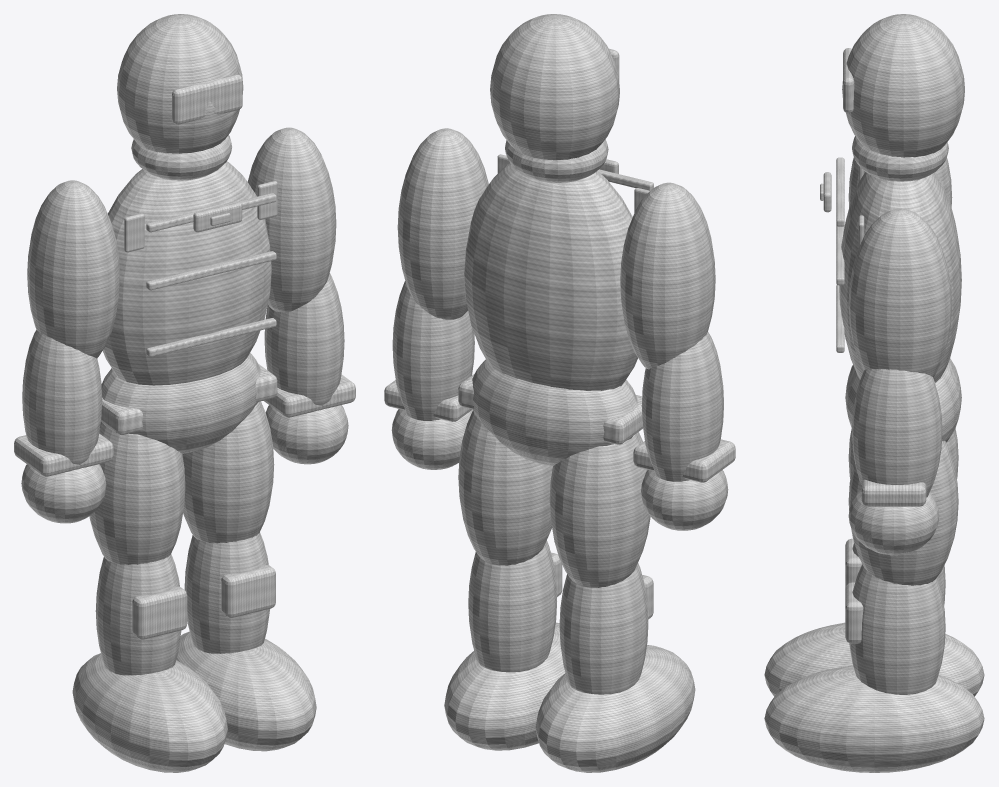
File: hazmat_suit_variant_c.glb
3 renders of one model, left to right at view 1: azimuth 30°, elevation 25°; view 2: azimuth 150°, elevation 25°; view 3: azimuth 270°, elevation 25°, orthographic. The views are drawn at different scales.
Parts seen in each view (by area): view 1: Torso suit shell.002, Boot.005, Upper arm suit.004, Helmet placeholder.003, Upper arm suit.005, Thigh suit.004, Boot.006, Thigh suit.005, Hip section.003, Forearm suit.005, Forearm suit.006, Shin suit.005 (+16 smaller); view 2: Torso suit shell.002, Helmet placeholder.003, Upper arm suit.004, Boot.005, Upper arm suit.005, Thigh suit.004, Thigh suit.005, Hip section.003, Shin suit.006, Shin suit.005, Forearm suit.005, Boot.006 (+7 smaller); view 3: Boot.006, Upper arm suit.005, Helmet placeholder.003, Forearm suit.006, Shin suit.006, Torso suit shell.002, Boot.005, Thigh suit.005, Glove.006, Neck seal.003, Hip section.003, Wrist seal.005 (+8 smaller).
Part boxes in pixels (x1=…): Torso suit shell.002: x1=102, y1=161, x2=271, y2=385; Boot.005: x1=72, y1=653, x2=227, y2=772; Upper arm suit.004: x1=27, y1=180, x2=119, y2=358; Helmet placeholder.003: x1=117, y1=14, x2=243, y2=153; Upper arm suit.005: x1=247, y1=127, x2=336, y2=312; Thigh suit.004: x1=89, y1=422, x2=185, y2=564; Boot.006: x1=176, y1=631, x2=316, y2=751; Thigh suit.005: x1=182, y1=401, x2=274, y2=543; Hip section.003: x1=101, y1=353, x2=260, y2=453; Forearm suit.005: x1=22, y1=330, x2=102, y2=469; Forearm suit.006: x1=264, y1=273, x2=344, y2=410; Shin suit.005: x1=95, y1=554, x2=181, y2=675; Torso suit shell.002: x1=464, y1=163, x2=637, y2=390; Helmet placeholder.003: x1=490, y1=14, x2=619, y2=160; Upper arm suit.004: x1=620, y1=182, x2=715, y2=369; Boot.005: x1=535, y1=645, x2=695, y2=772; Upper arm suit.005: x1=397, y1=128, x2=488, y2=319; Thigh suit.004: x1=549, y1=432, x2=650, y2=587; Thigh suit.005: x1=458, y1=410, x2=552, y2=565; Hip section.003: x1=472, y1=359, x2=637, y2=466; Shin suit.006: x1=468, y1=540, x2=556, y2=672; Shin suit.005: x1=559, y1=563, x2=648, y2=694; Forearm suit.005: x1=641, y1=332, x2=723, y2=481; Boot.006: x1=444, y1=622, x2=565, y2=750; Boot.006: x1=764, y1=665, x2=984, y2=772; Upper arm suit.005: x1=848, y1=208, x2=952, y2=377; Helmet placeholder.003: x1=842, y1=14, x2=964, y2=157; Forearm suit.006: x1=852, y1=369, x2=942, y2=497; Shin suit.006: x1=849, y1=564, x2=945, y2=694; Torso suit shell.002: x1=839, y1=172, x2=961, y2=382; Boot.005: x1=764, y1=622, x2=984, y2=696; Thigh suit.005: x1=848, y1=441, x2=958, y2=585; Glove.006: x1=848, y1=489, x2=939, y2=555; Neck seal.003: x1=852, y1=136, x2=948, y2=181; Hip section.003: x1=845, y1=358, x2=961, y2=442; Wrist seal.005: x1=861, y1=479, x2=926, y2=506.
Size of what is drawn, in the model's own units: 1.13 by 2.47 by 0.68.
7 materials, 7 textured.
